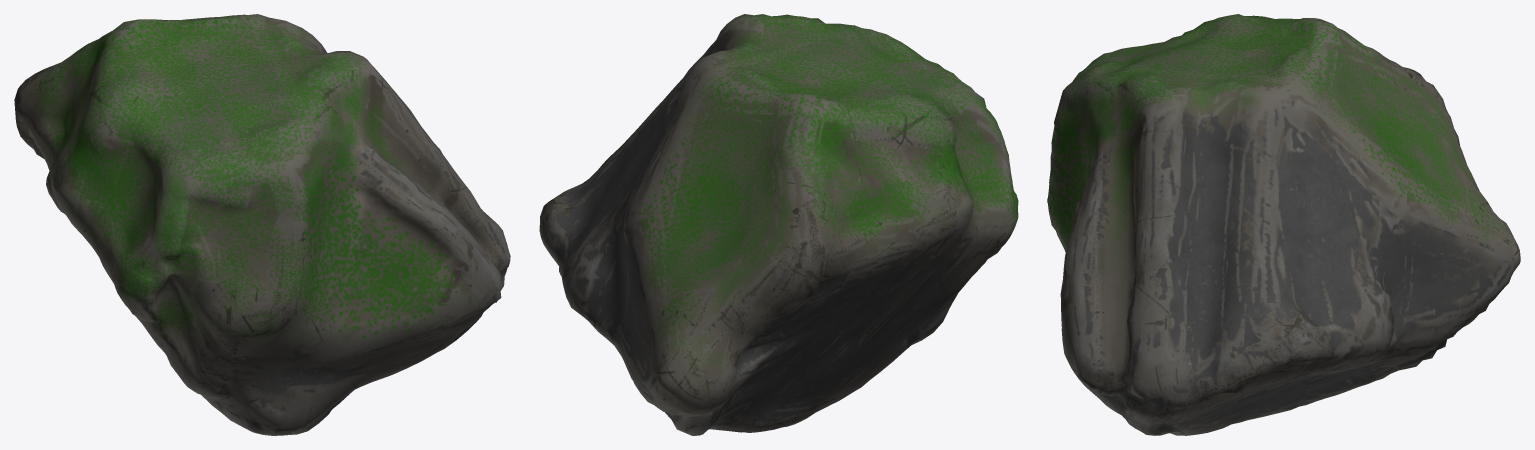
3 views of the same model, side by side, from view 1: azimuth 30°, elevation 25°; view 2: azimuth 150°, elevation 25°; view 3: azimuth 270°, elevation 25° (orthographic). The views are drawn at different scales.
Visible parts, largest first — view 1: Volume5; view 2: Volume5; view 3: Volume5.
Part boxes in pixels (x1,y1,x2,y2): Volume5: [14, 14, 510, 435]; Volume5: [539, 14, 1018, 435]; Volume5: [1047, 14, 1520, 435].
Bounding box in the file's own units: 1.35 × 1.2 × 1.4.
Materials: 1 (1 with a texture image).
